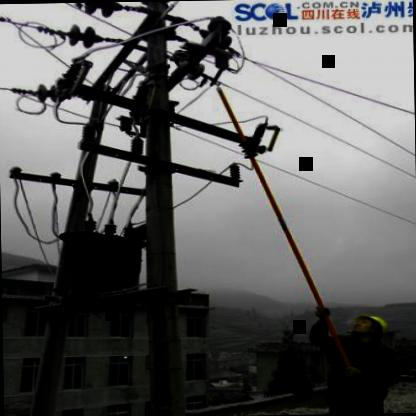helmet: (347, 313, 391, 342)
